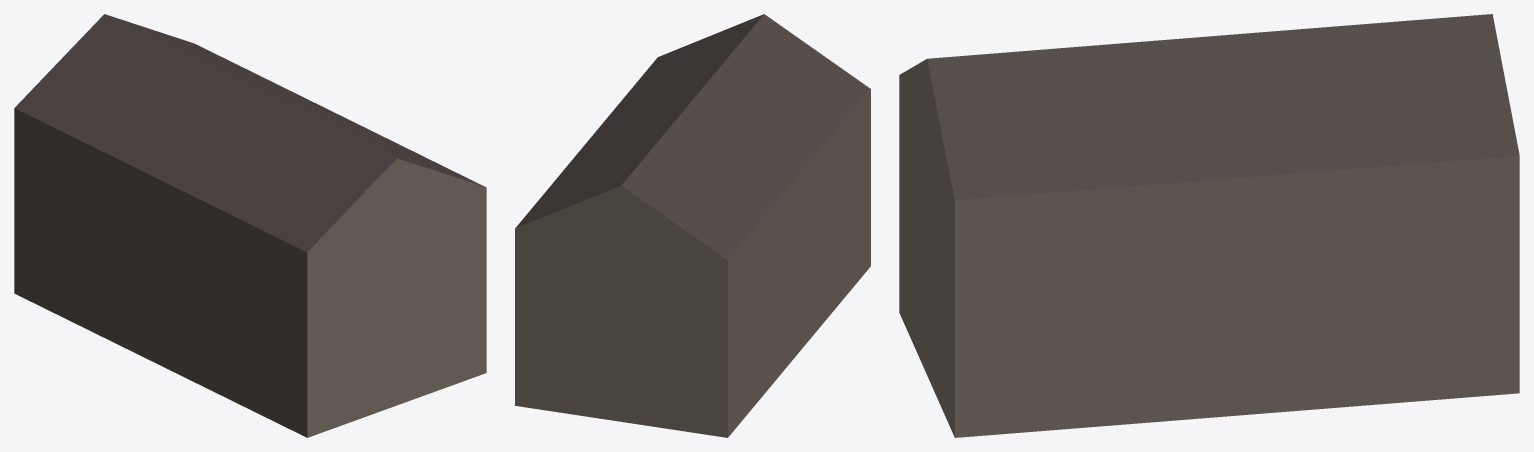
The picture shows the model from 3 angles, left to right: view 1: azimuth 30°, elevation 25°; view 2: azimuth 150°, elevation 25°; view 3: azimuth 270°, elevation 25°; orthographic projection. The views are drawn at different scales.
Visible parts, largest first — view 1: HP-w1197715830; view 2: HP-w1197715830; view 3: HP-w1197715830.
Boxes of the visible parts, box(x1,y1,x2,y2) form: HP-w1197715830: box(14, 14, 486, 437); HP-w1197715830: box(515, 14, 870, 437); HP-w1197715830: box(899, 14, 1519, 437).
Bounding box in the file's own units: 9.23 × 8 × 14.21.
